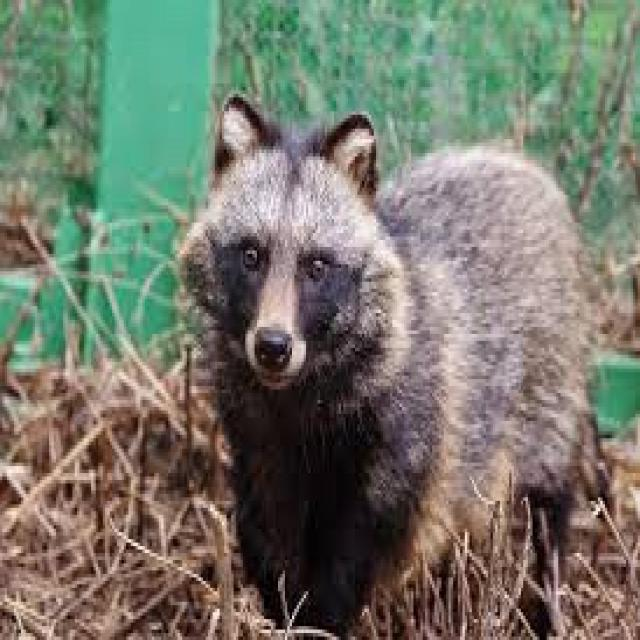racoon: (183, 78, 599, 640)
